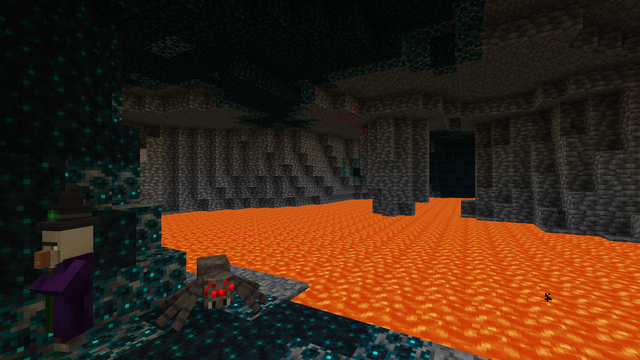araignees: (161, 250, 264, 334)
sorcieres: (34, 218, 96, 358)
